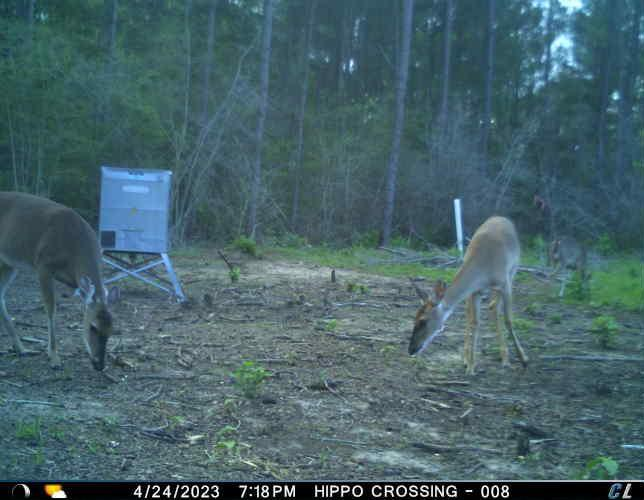Deer: (0, 184, 122, 375), (404, 212, 531, 376), (547, 226, 589, 298)
